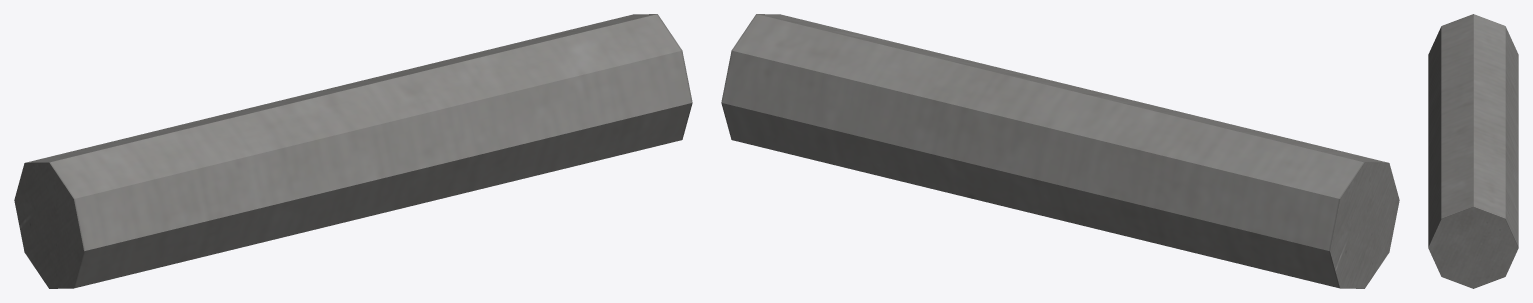
Rendered from fishingrod_Handle.obj.
3 renders of one model, left to right at view 1: azimuth 30°, elevation 25°; view 2: azimuth 150°, elevation 25°; view 3: azimuth 270°, elevation 25°, orthographic. The views are drawn at different scales.
Parts seen in each view (by area): view 1: SpoolHandle Spool_grp Fishingrod_grp; view 2: SpoolHandle Spool_grp Fishingrod_grp; view 3: SpoolHandle Spool_grp Fishingrod_grp.
Part boxes in pixels (left/top/right/bottom): SpoolHandle Spool_grp Fishingrod_grp: left=14, top=14, right=692, bottom=288; SpoolHandle Spool_grp Fishingrod_grp: left=721, top=14, right=1399, bottom=288; SpoolHandle Spool_grp Fishingrod_grp: left=1428, top=14, right=1518, bottom=288.
Size of the model in its own units: 5.14 by 1.02 by 1.02.
1 material, 1 textured.
